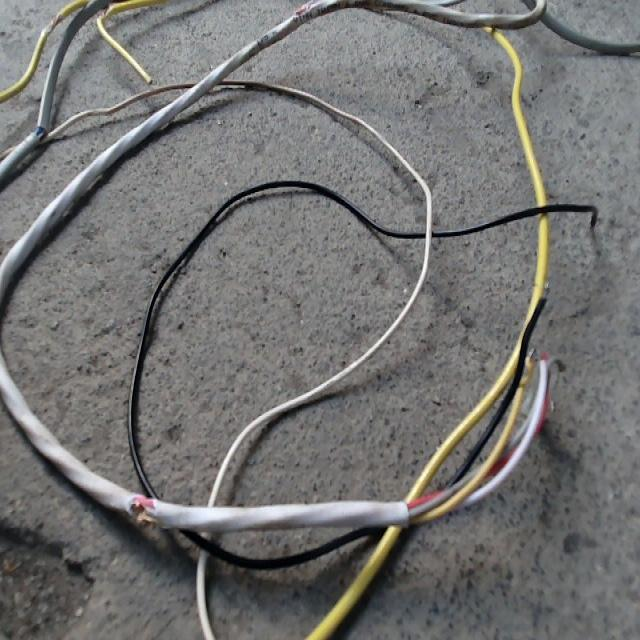-: (126, 492, 161, 529), (43, 12, 61, 31)
